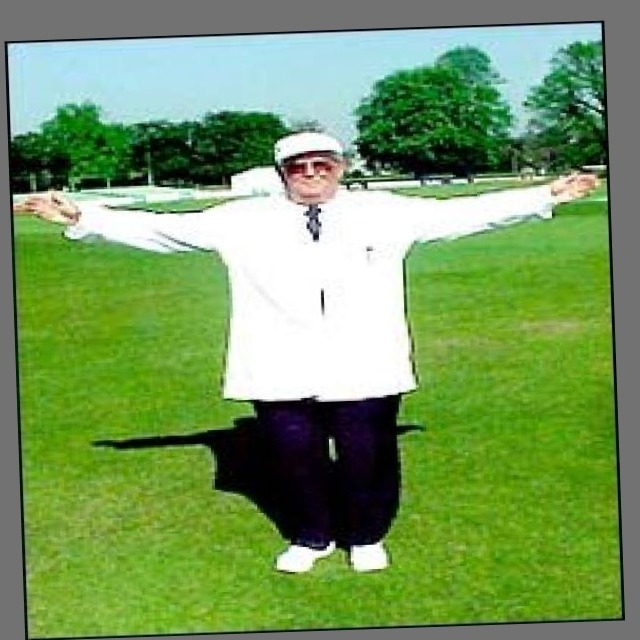Wide: (8, 108, 623, 591)
